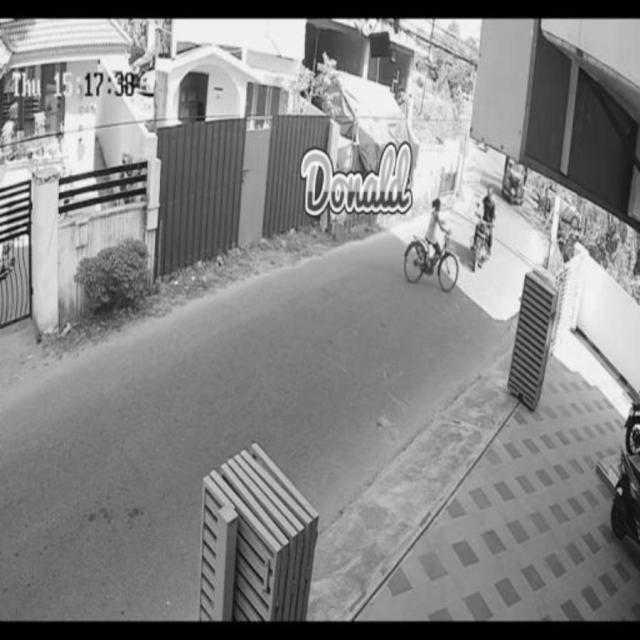vehicle: (400, 200, 461, 291), (470, 191, 495, 273)
